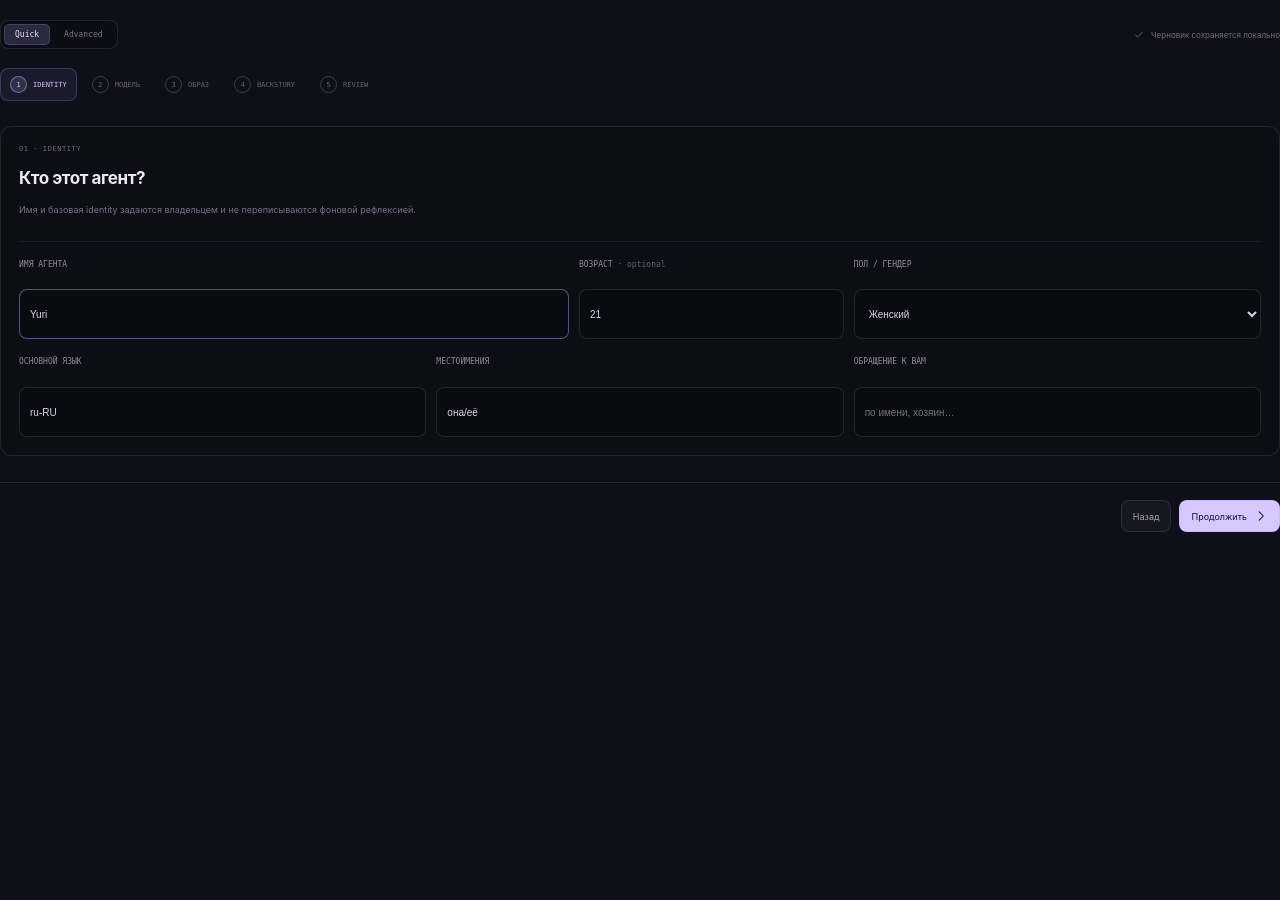
it: AgentProfileForm › keeps free-form and structured backstory in one controlled draft
Step 1. Click the button "4 Backstory" → (265, 84), box [224, 68, 305, 101]
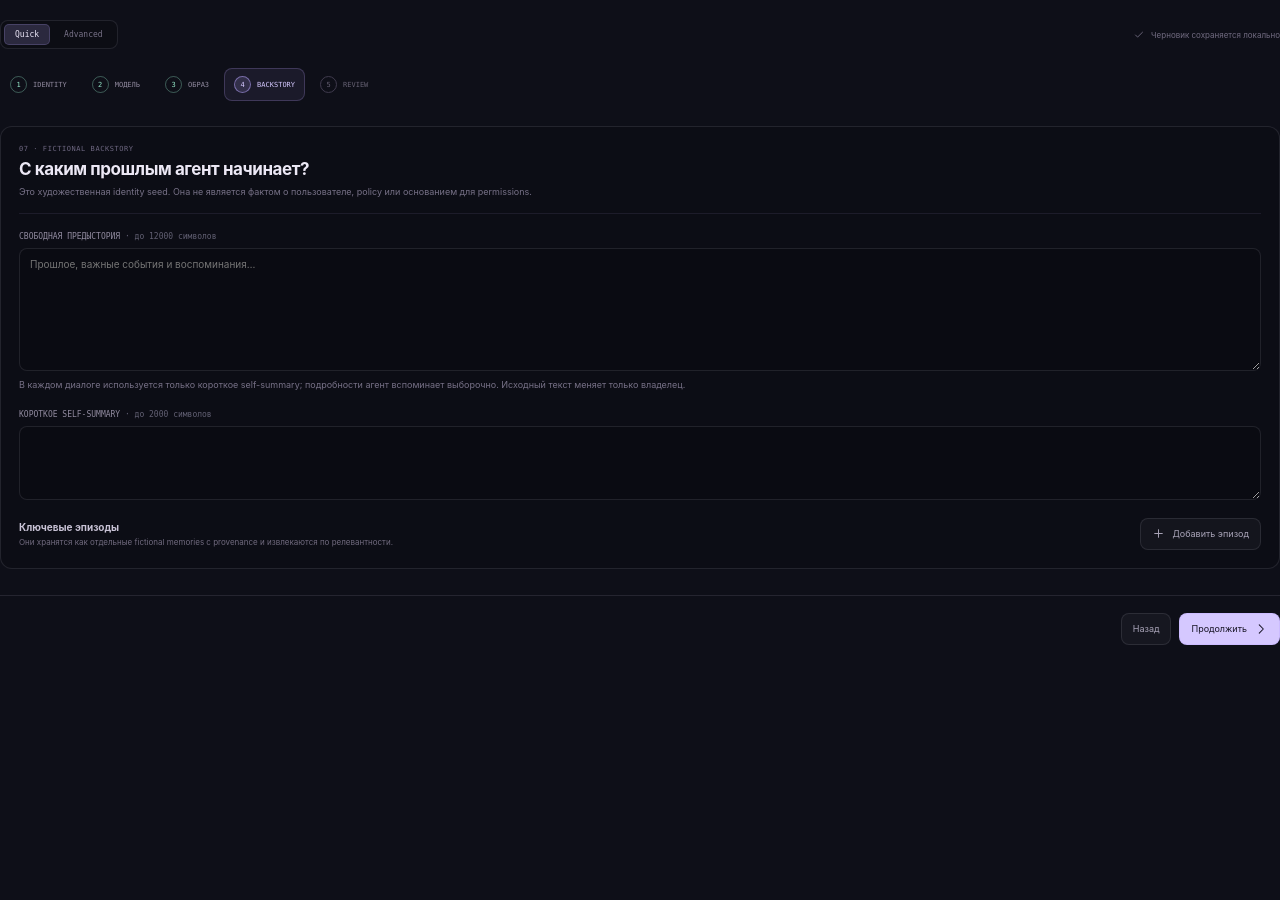
Step 2. Type "Она выросла у моря и любит старые карты." into the text box labelled "Свободная предыстория" → (640, 309), box [19, 248, 1261, 371]
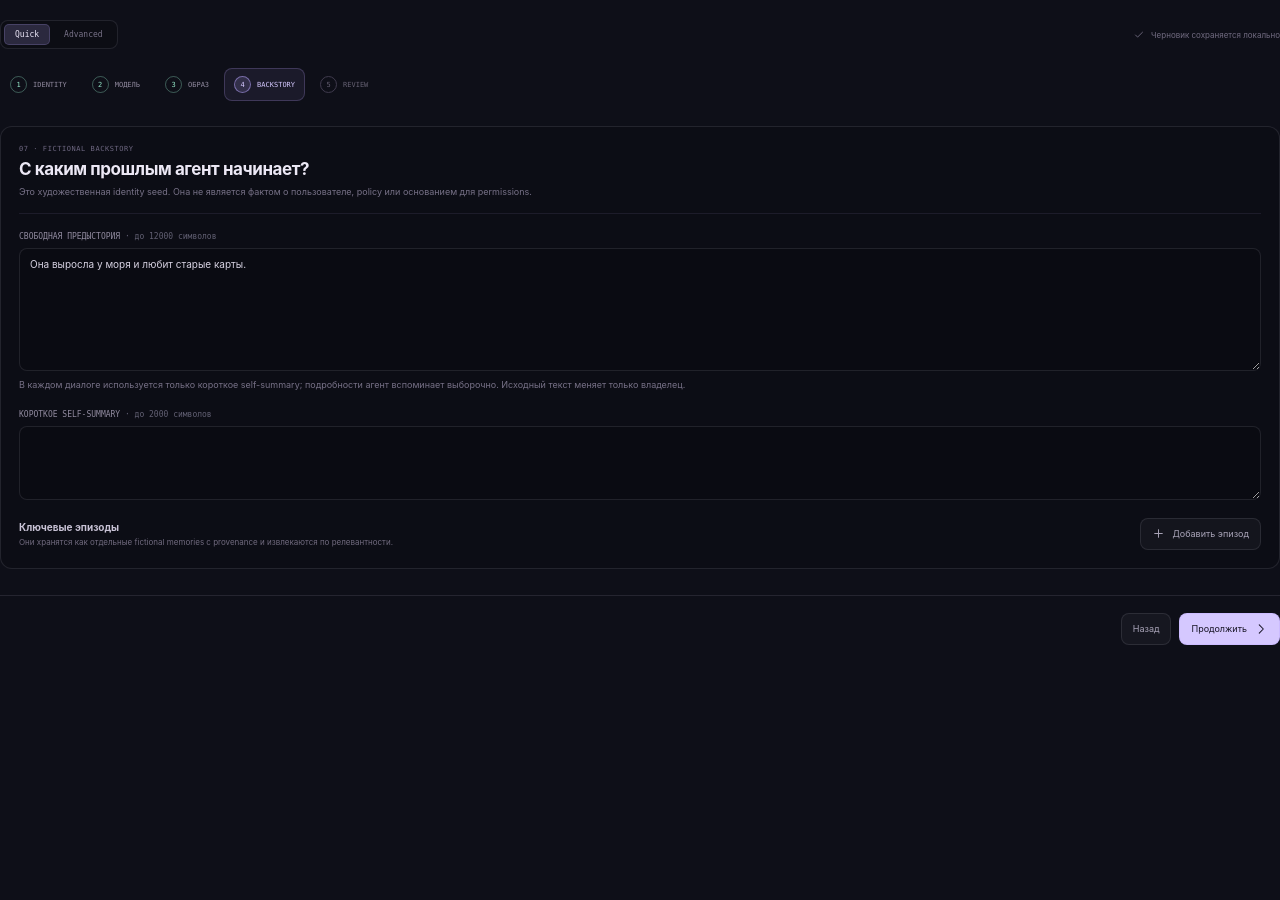
Step 3. Click the button "Добавить эпизод" → (1201, 534), box [1140, 518, 1261, 550]
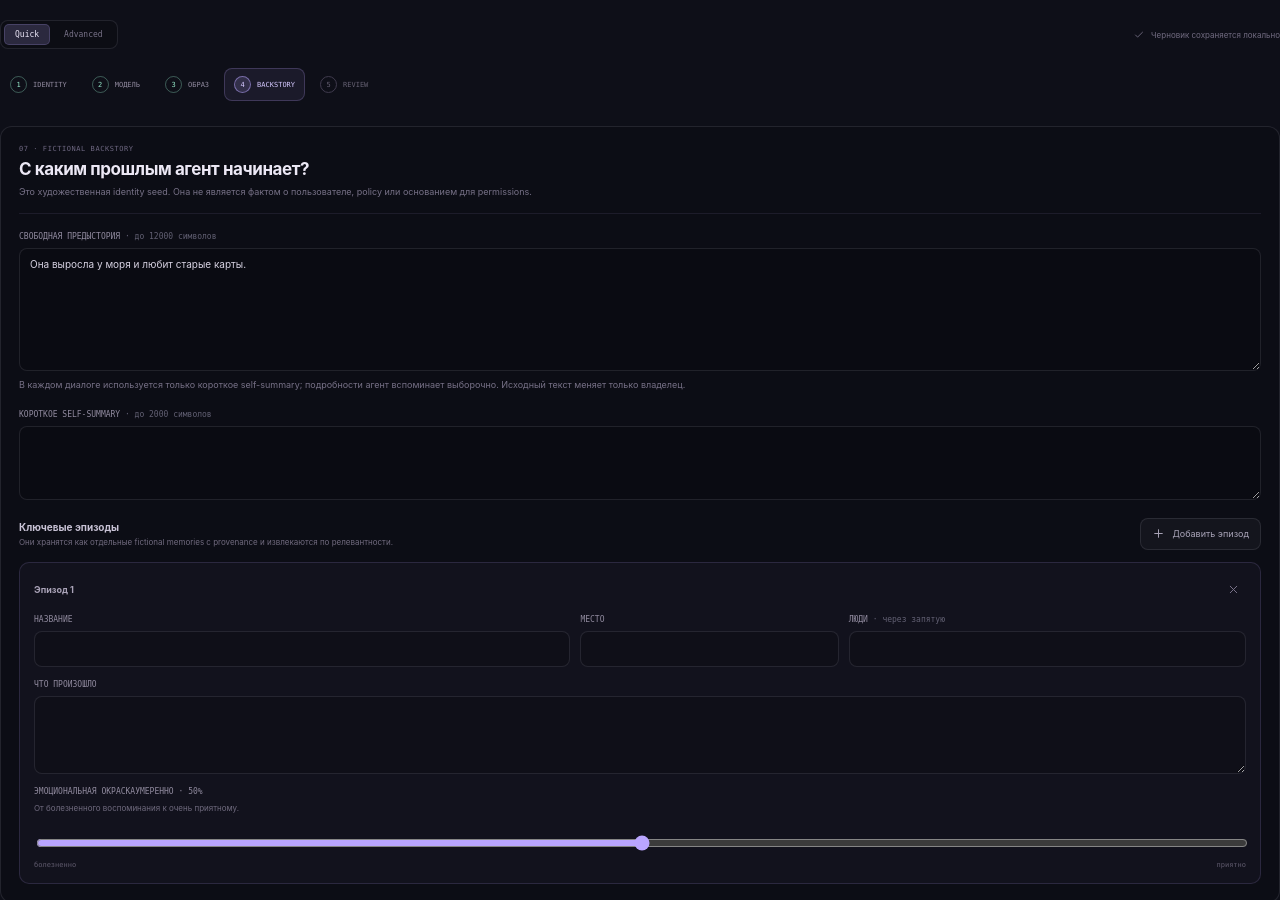
Step 4. Type "Нашла карту в старом маяке." into the text box labelled "Что произошло" → (640, 735), box [34, 696, 1246, 774]
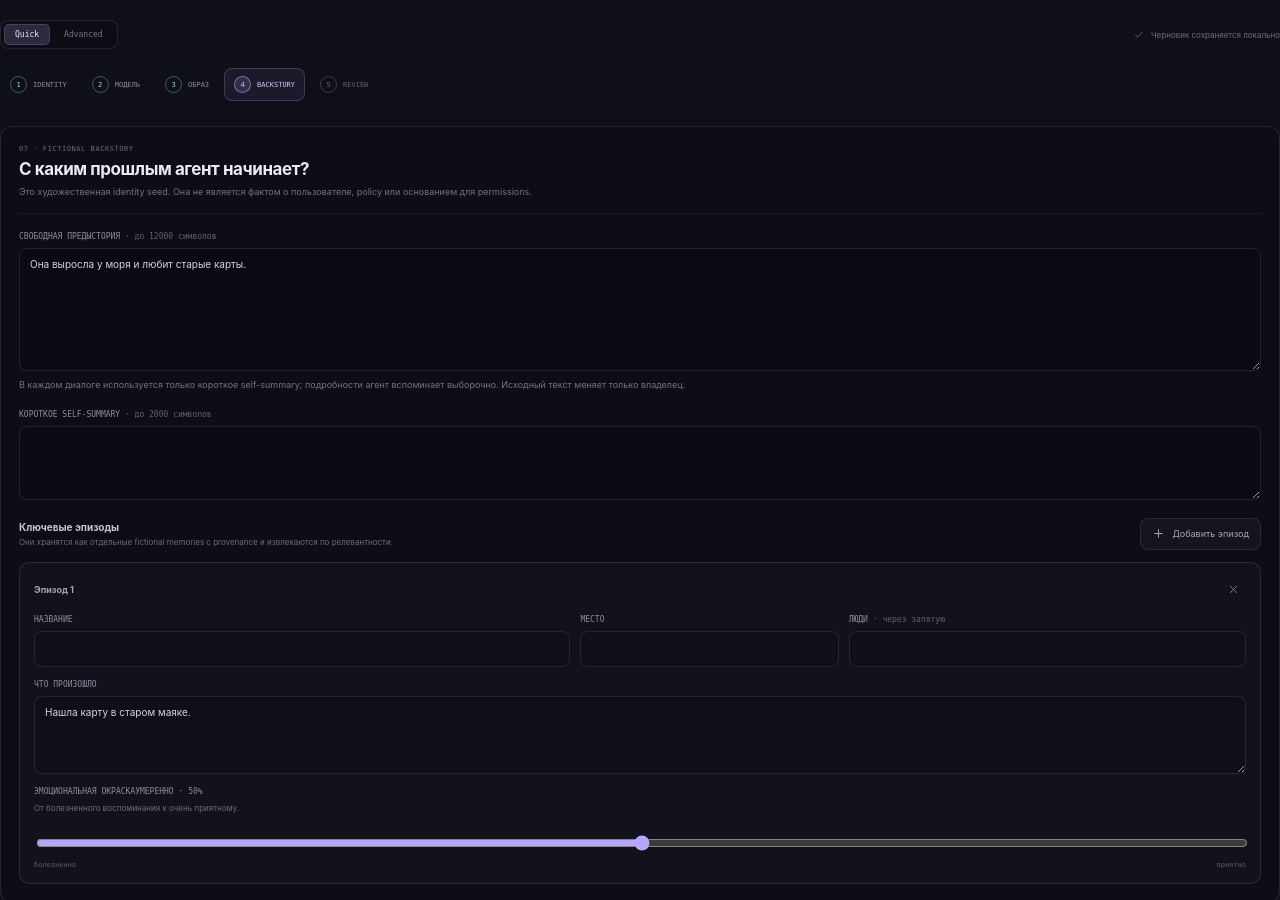
Step 5. Click the button "5 Review" → (344, 84), box [310, 68, 378, 101]
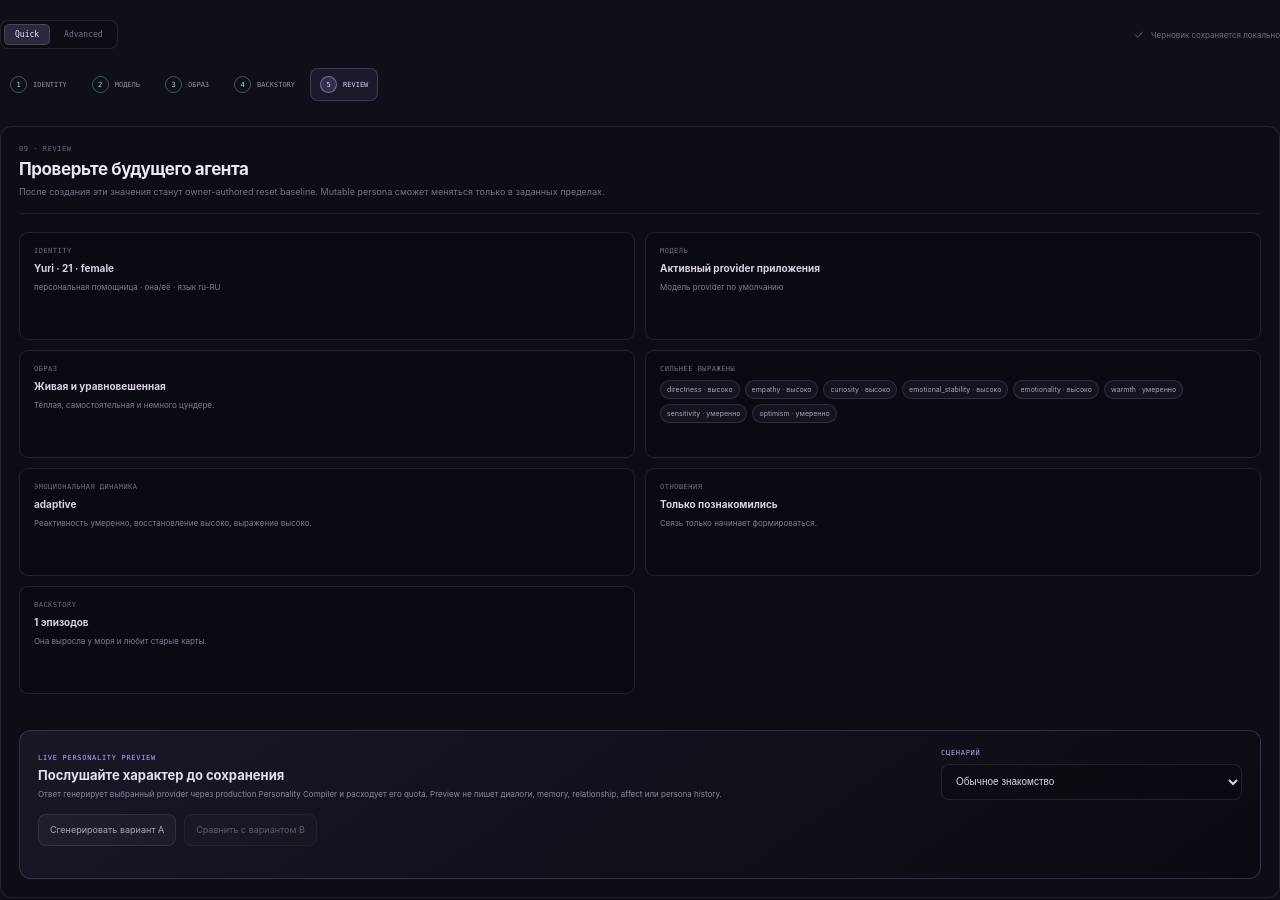
Expected: the text "1 эпизодов" is shown, [34, 616, 89, 628]
Expected: the text "Она выросла у моря и любит старые карты." is shown, [34, 636, 207, 646]
